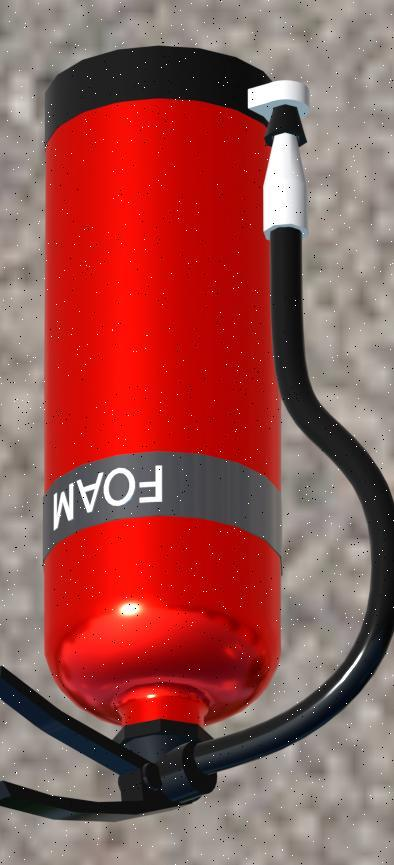Fire Extinguisher: (0, 40, 394, 825)
